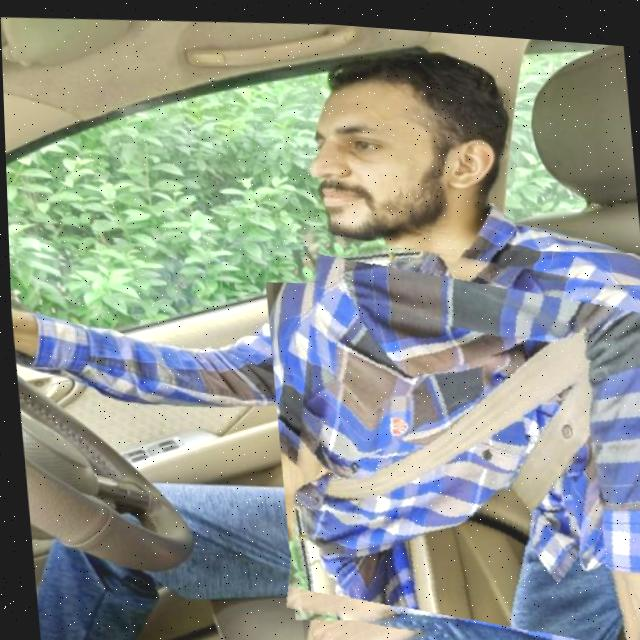seatbelt: (266, 220, 640, 640)
